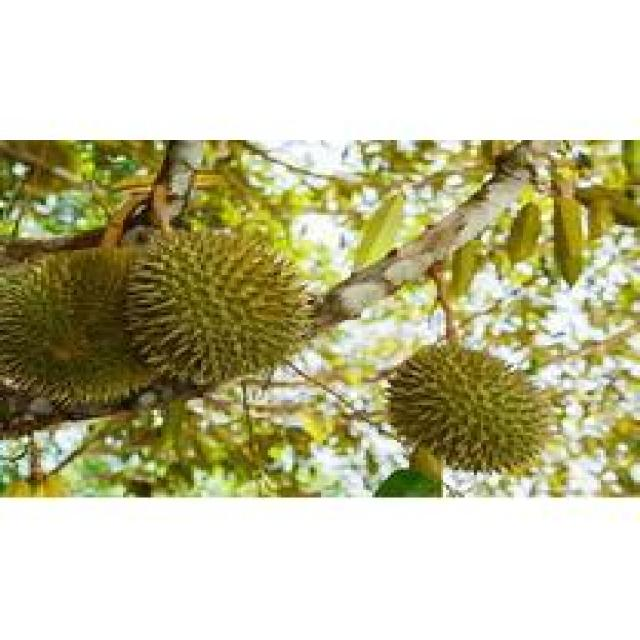fruit: (114, 205, 332, 403), (0, 232, 154, 430), (375, 330, 557, 480)
